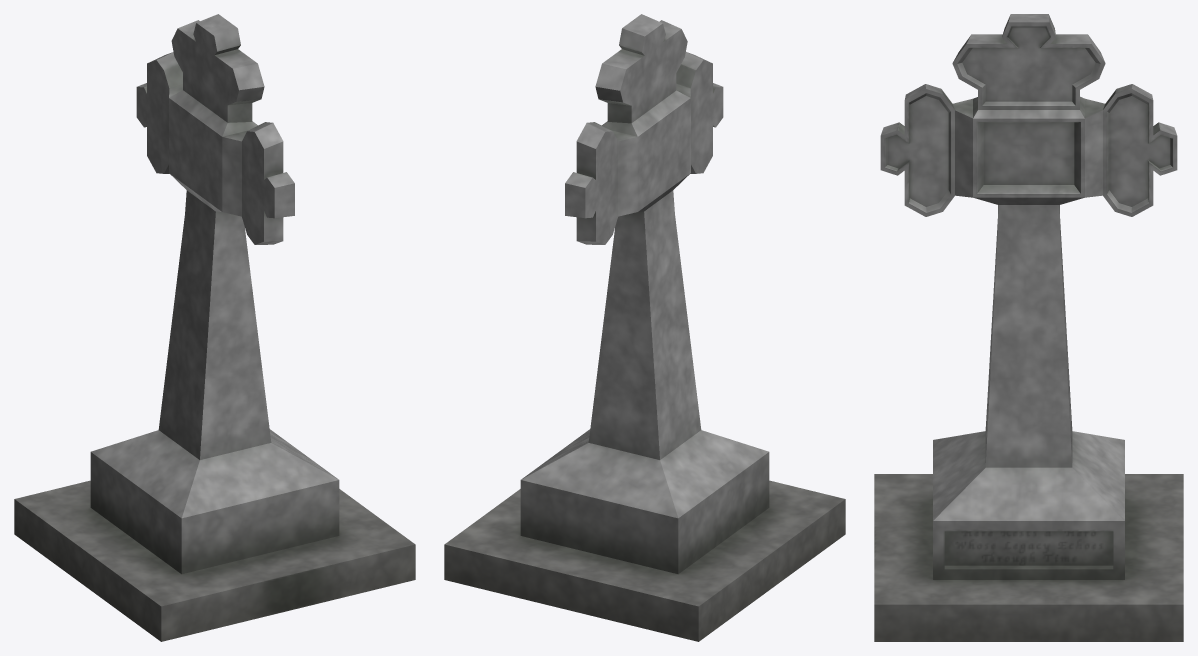
File: Grave_4.fbx
3 views of the same model, side by side, from view 1: azimuth 30°, elevation 25°; view 2: azimuth 150°, elevation 25°; view 3: azimuth 270°, elevation 25° (orthographic). The views are drawn at different scales.
Visible parts, largest first — view 1: Grave_4_LOD0; view 2: Grave_4_LOD0; view 3: Grave_4_LOD0.
Part boxes in pixels (x1,y1,x2,y2): Grave_4_LOD0: [14, 14, 415, 641]; Grave_4_LOD0: [444, 14, 845, 641]; Grave_4_LOD0: [874, 14, 1183, 641].
Size of what is drawn, in the model's own units: 364 by 730 by 364.
